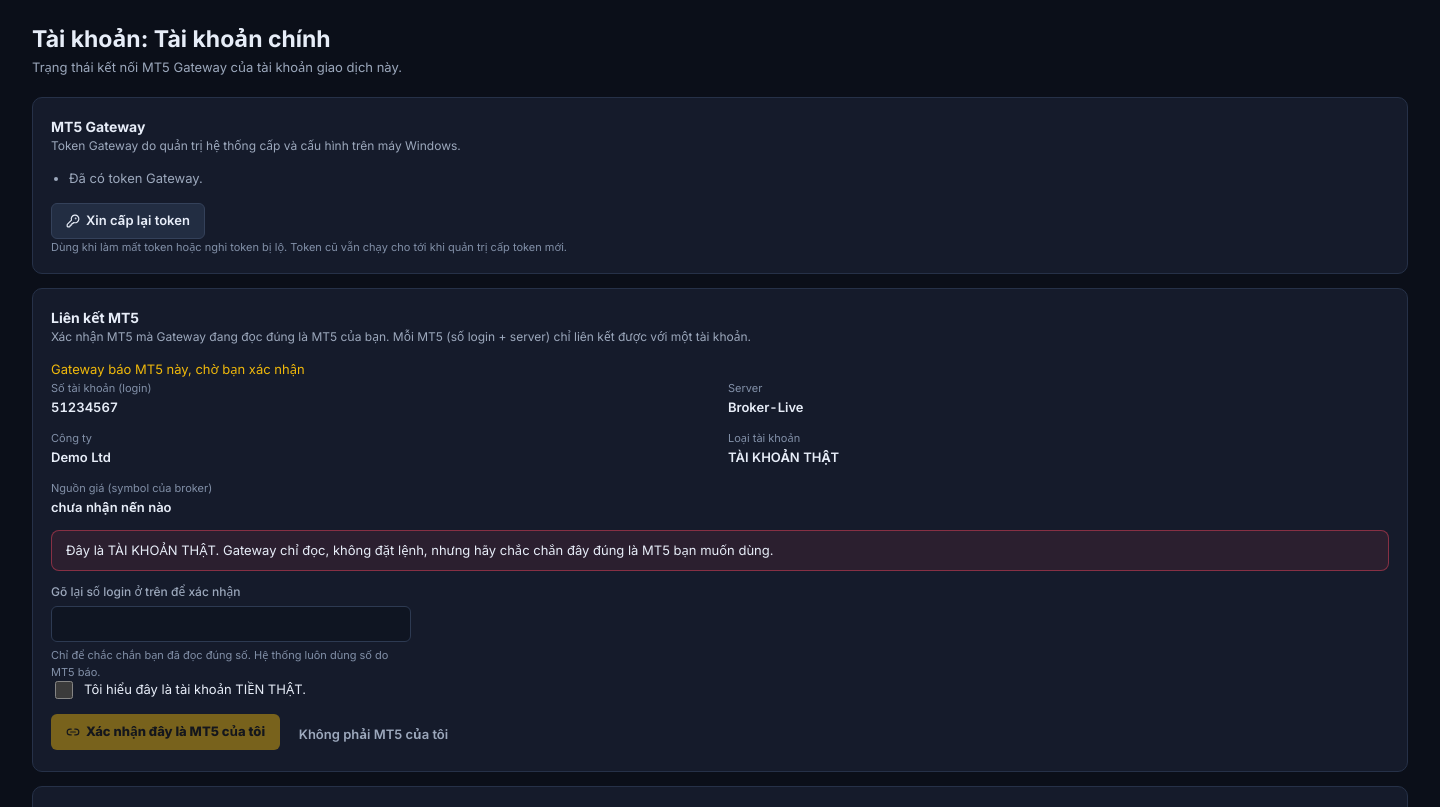
Test: Liên kết MT5 (MT-13) › tài khoản THẬT: phải đánh dấu đã hiểu; backend từ chối (409) → báo lỗi rõ
This screenshot has width=1440, height=807.
In the field labelled "Gõ lại số login ở trên để xác nhận": (231, 624) [51,606,411,642], type "51234567"
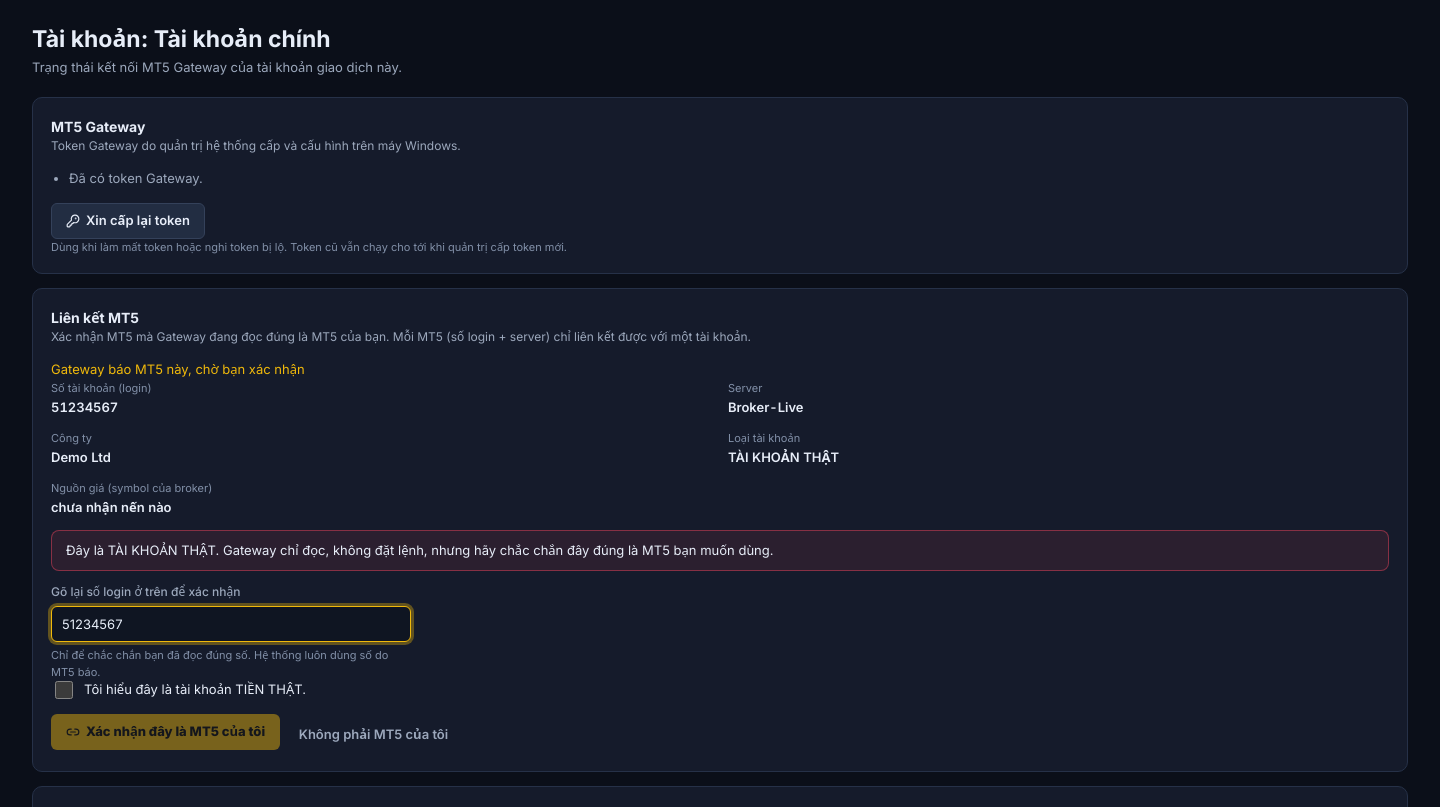
Expected: the button "Xác nhận đây là MT5 của tôi" is disabled, [51,714,280,750]
Click the checkbox labelled "Tôi hiểu đây là tài khoản TIỀN THẬT.": (64, 690) [55,681,73,699]
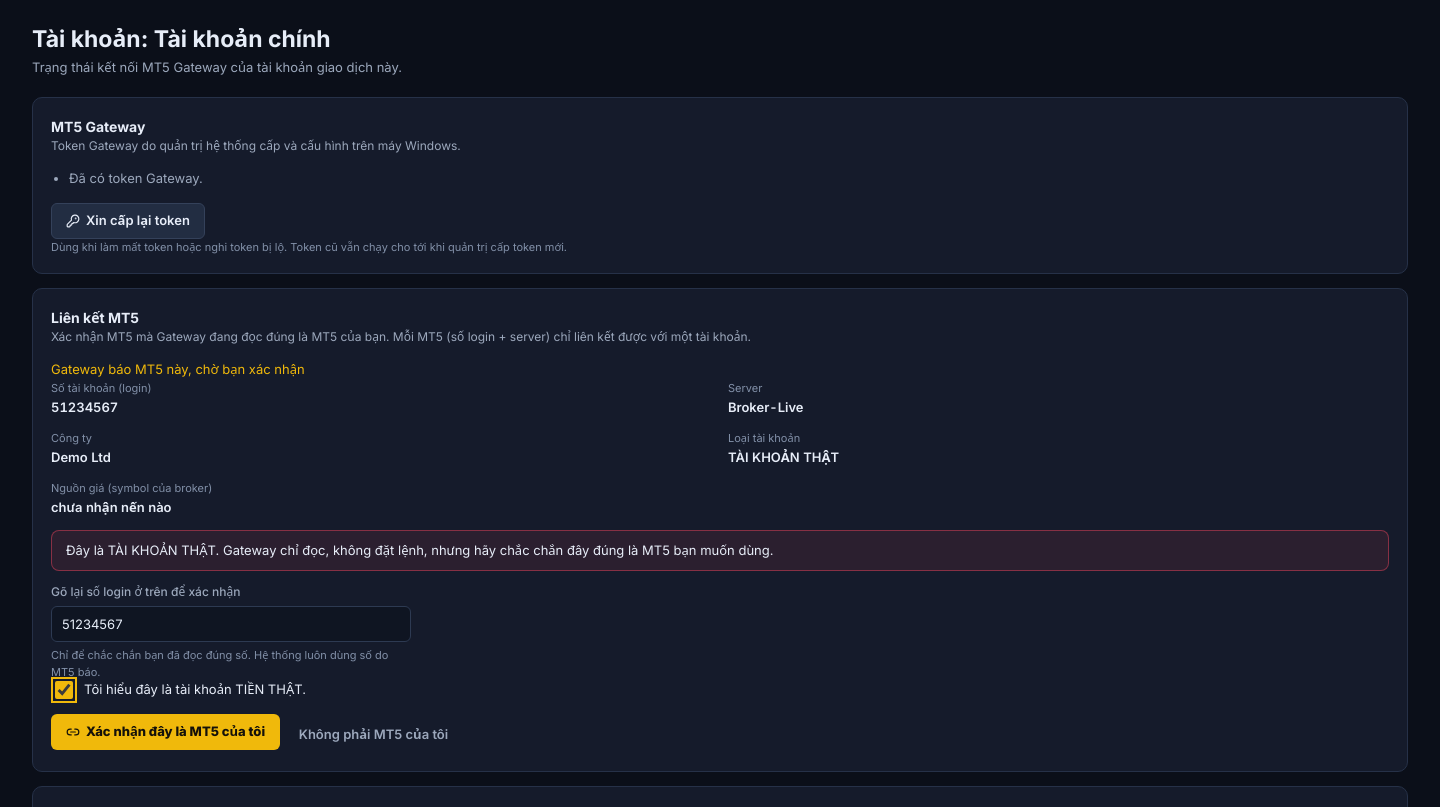
Now the button "Xác nhận đây là MT5 của tôi" is enabled
Click the button "Xác nhận đây là MT5 của tôi": (166, 732) [51,714,280,750]
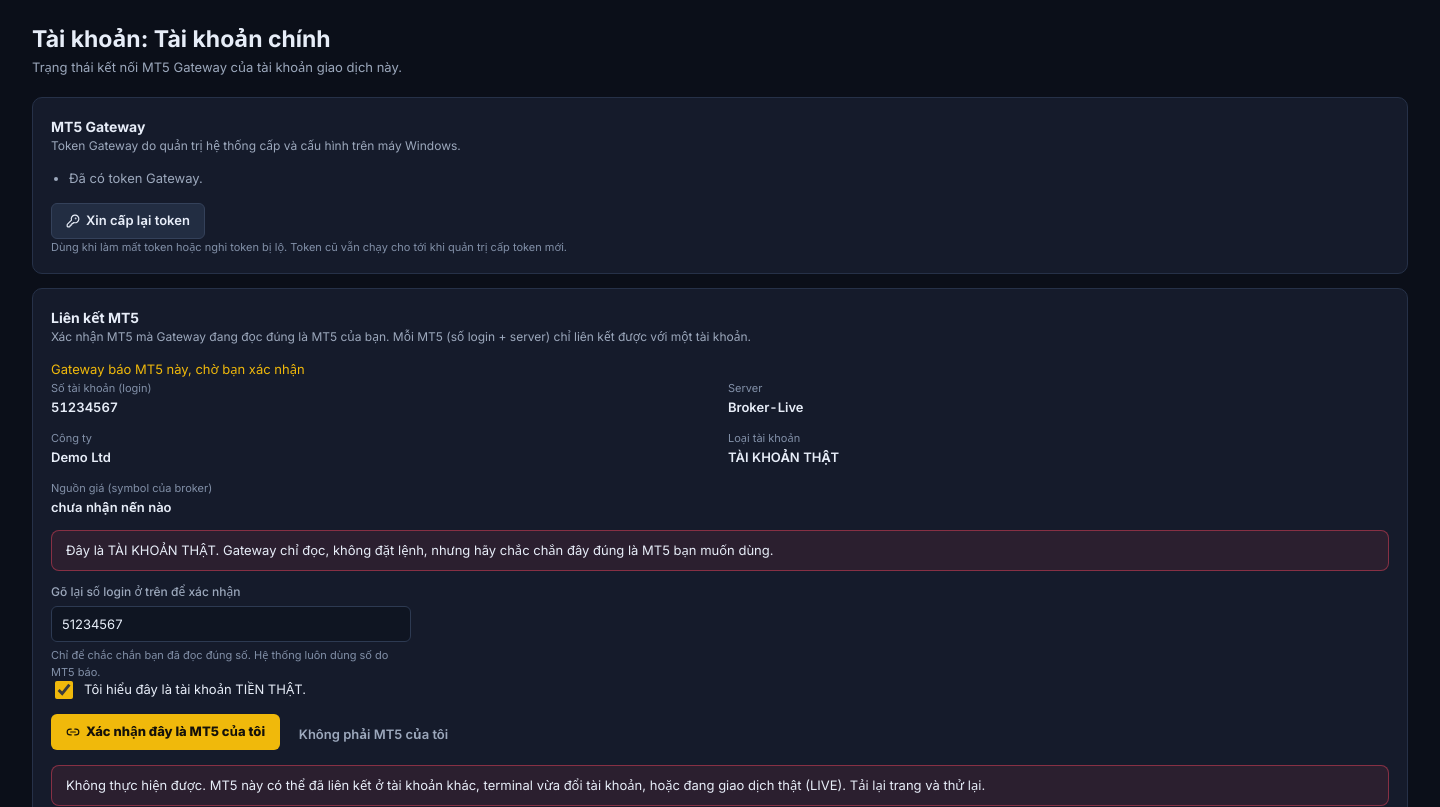
Now the text "MT5 này có thể đã liên kết ở tài khoản khác" is shown, box [66,777,985,793]
